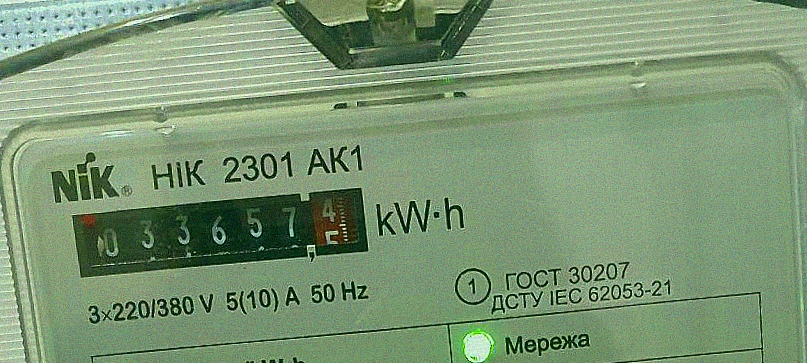0: (98, 222, 122, 260)
3: (136, 215, 157, 251), (171, 211, 192, 247)
4: (317, 193, 339, 225)
5: (241, 202, 266, 240)
6: (205, 211, 228, 247)
7: (278, 202, 299, 239)
screen: (58, 178, 377, 286)
